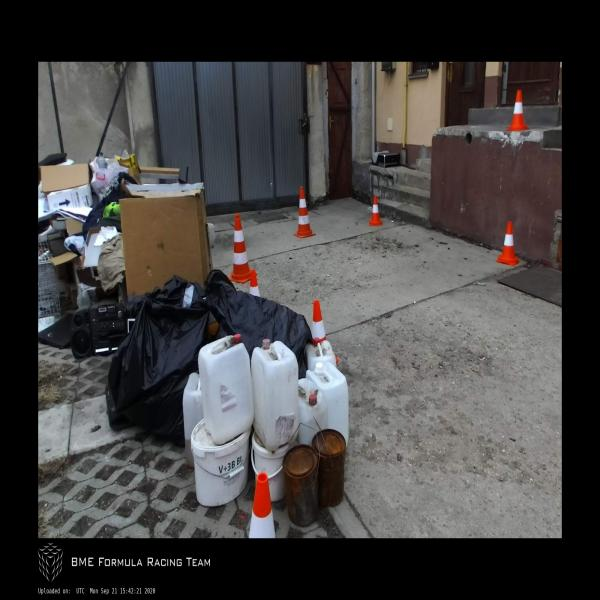large_orange_cone: (228, 214, 256, 282), (249, 473, 276, 538), (293, 187, 316, 238)
orange_cone: (307, 300, 339, 362), (496, 222, 520, 266), (507, 90, 528, 130), (370, 196, 383, 225), (249, 270, 261, 297)
